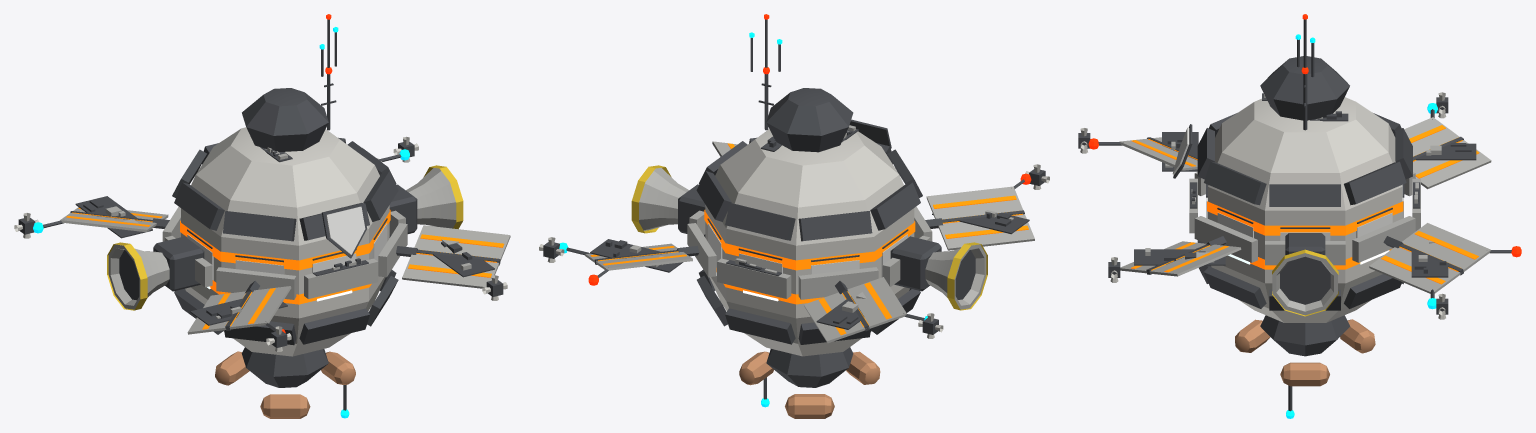
The model's file is steelworks.glb.
The picture shows the model from 3 angles, left to right: view 1: azimuth 30°, elevation 25°; view 2: azimuth 150°, elevation 25°; view 3: azimuth 270°, elevation 25°; orthographic projection.
Parts seen in each view (by area): view 1: steelworks; view 2: steelworks; view 3: steelworks.
Part boxes in pixels (x1,y1,x2,y2): steelworks: (14,14,510,418); steelworks: (539,14,1049,418); steelworks: (1078,14,1521,418).
Bounding box in the file's own units: 1.69 × 1.62 × 1.62.
